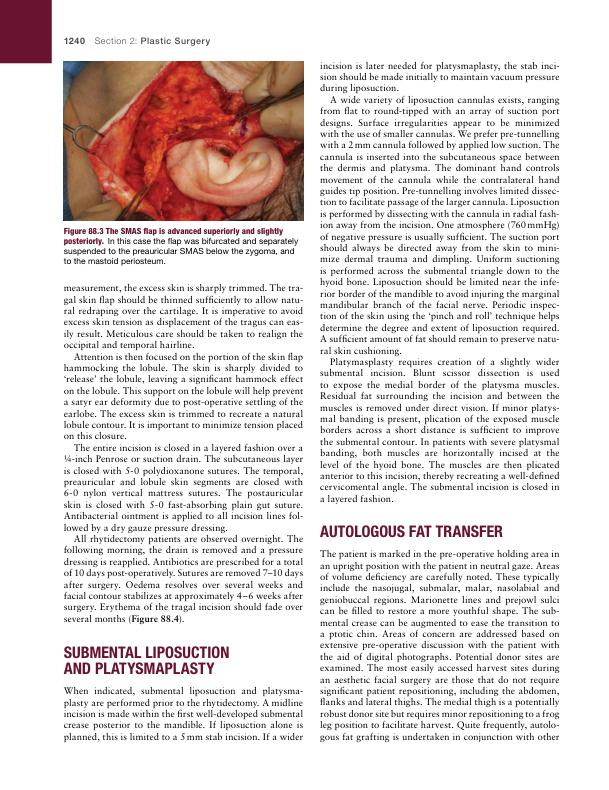caption: (63, 226, 299, 267)
header: (93, 36, 212, 48)
image: (63, 60, 305, 222)
section-heading: (63, 644, 231, 675), (318, 524, 505, 539)
text: (318, 60, 561, 506), (62, 283, 304, 627), (319, 549, 561, 744), (62, 686, 304, 742)
